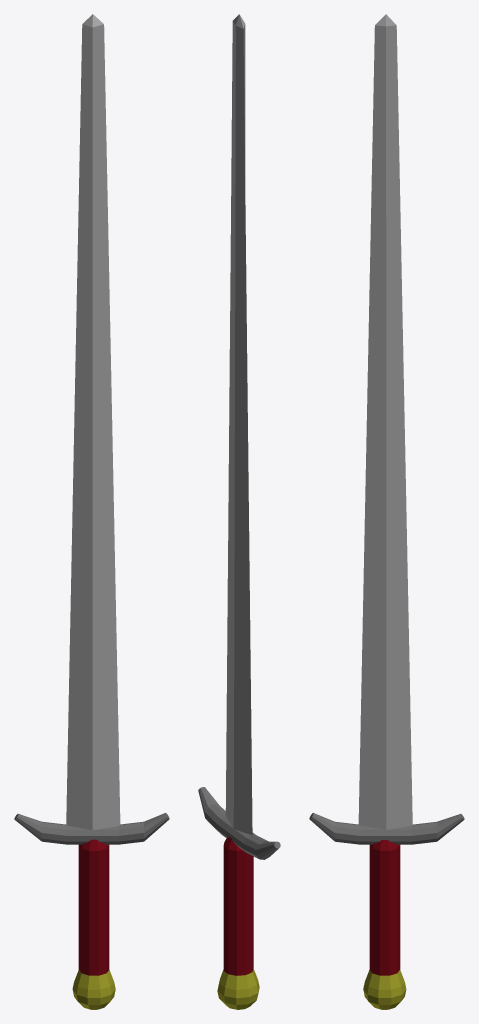
File: Sword.fbx
3 views of the same model, side by side, from view 1: azimuth 90°, elevation 25°; view 2: azimuth 210°, elevation 25°; view 3: azimuth 270°, elevation 25° (orthographic).
Parts seen in each view (by area): view 1: Sword; view 2: Sword; view 3: Sword.
Boxes of the visible parts, left/top/right/bottom form: Sword: left=14, top=14, right=169, bottom=1009; Sword: left=198, top=14, right=280, bottom=1009; Sword: left=309, top=14, right=464, bottom=1009.
Size of the model in its own units: 44.14 by 1177 by 167.
